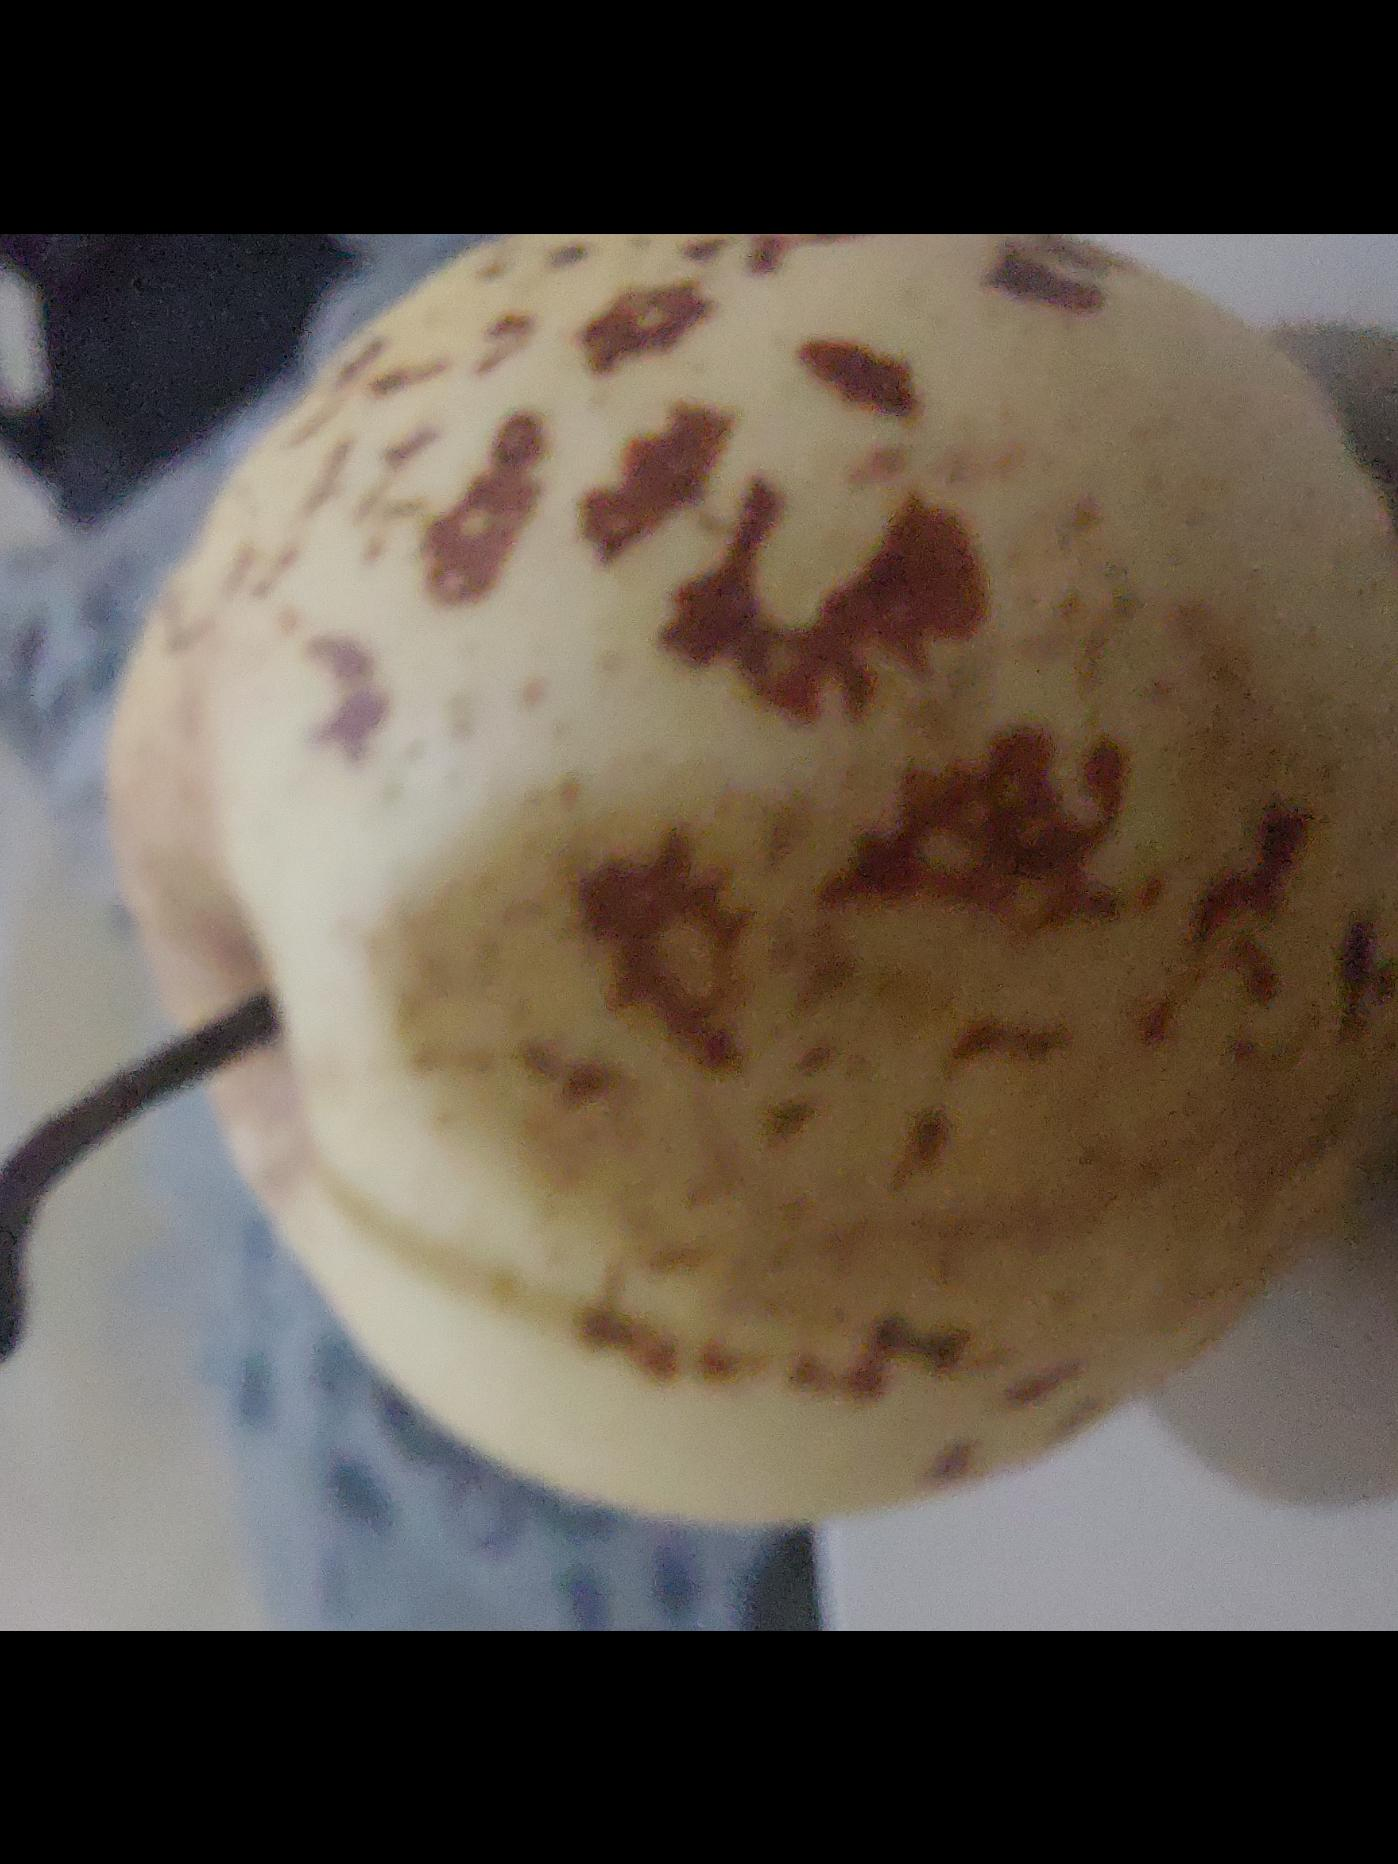Bad Pear: (0, 233, 1398, 1504)
